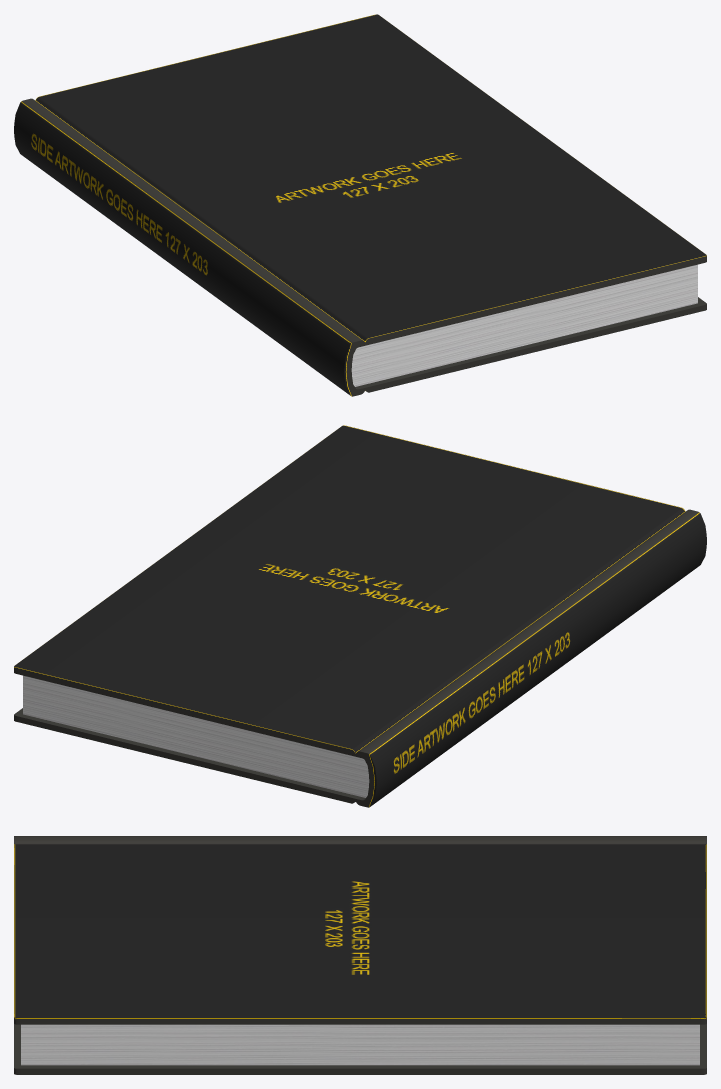
File: Book_SM.gltf
3 views of the same model, one above another, from view 1: azimuth 30°, elevation 25°; view 2: azimuth 150°, elevation 25°; view 3: azimuth 270°, elevation 25° (orthographic). The views are drawn at different scales.
Parts seen in each view (by area): view 1: Book_127x203; view 2: Book_127x203; view 3: Book_127x203.
Part boxes in pixels (x1,y1,x2,y2): Book_127x203: (14, 14, 706, 396); Book_127x203: (14, 425, 706, 807); Book_127x203: (14, 836, 706, 1074).
Bounding box in the file's own units: 0.1317 × 0.0187 × 0.2072.
4 materials, 4 textured.
